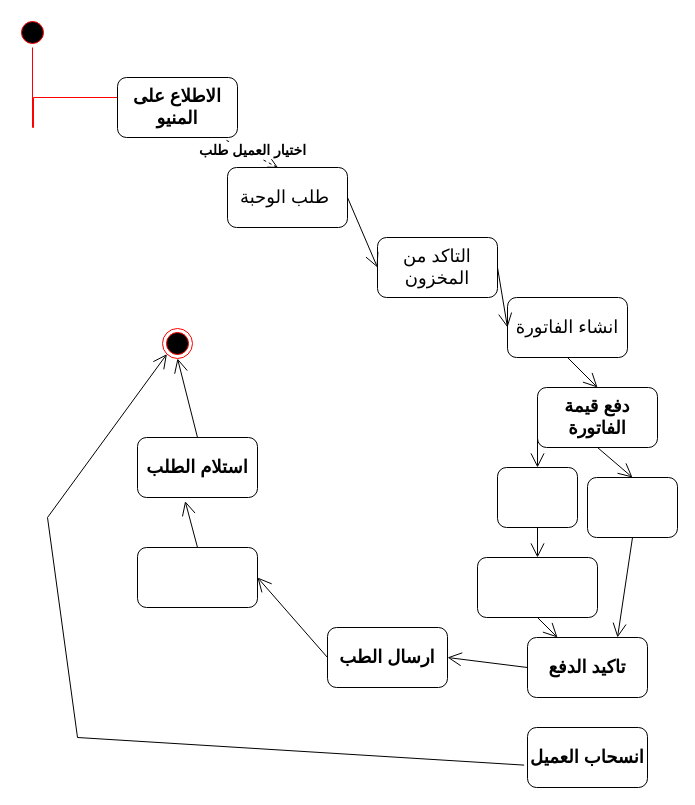
This 695x805 diagram has some shape labels left out. The shapes that lost their labels are listed below. From the top down, each one's centre as x and y in pixels, then its label:
the point at 537,497: بطاقة
the point at 632,507: كاش
the point at 197,577: تجهيز الطلب
the point at 537,587: البنك
